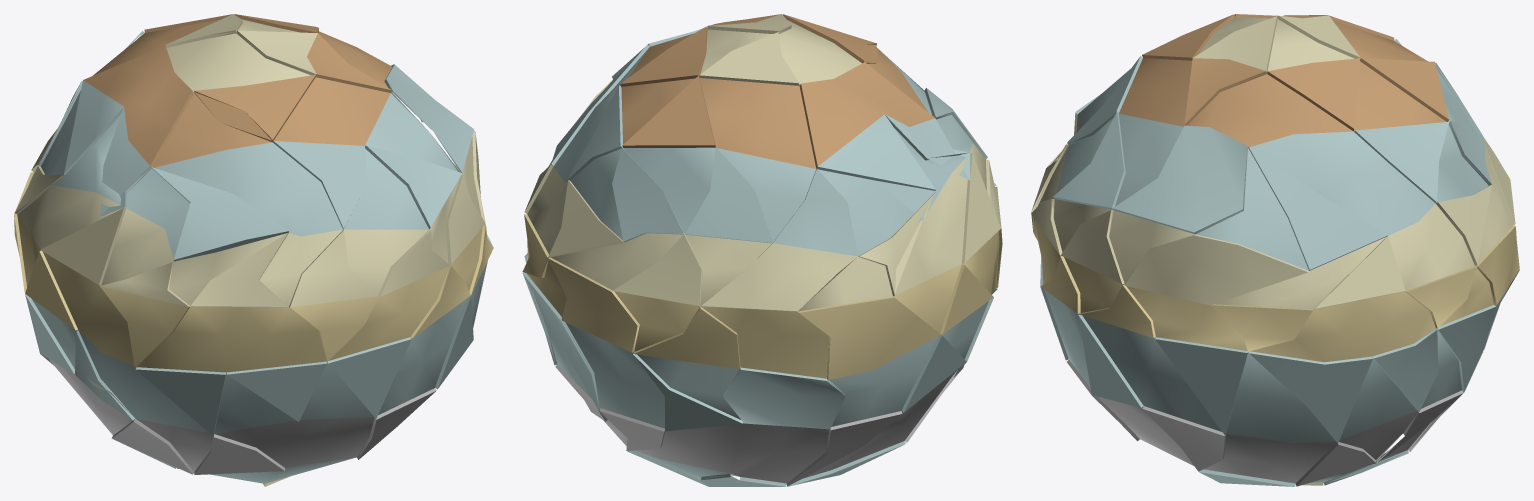
File: 33920adc-ecf0-4b2f-ba75-31b02b2cb881.glb
The picture shows the model from 3 angles, left to right: view 1: azimuth 30°, elevation 25°; view 2: azimuth 150°, elevation 25°; view 3: azimuth 270°, elevation 25°; orthographic projection.
Parts seen in each view (by area): view 1: GeoSphere001; view 2: GeoSphere001; view 3: GeoSphere001.
Part boxes in pixels (x1,y1,x2,y2): GeoSphere001: [14, 14, 493, 486]; GeoSphere001: [522, 14, 1002, 486]; GeoSphere001: [1031, 14, 1519, 486].
Size of the model in its own units: 84.53 by 85.82 by 84.91.
